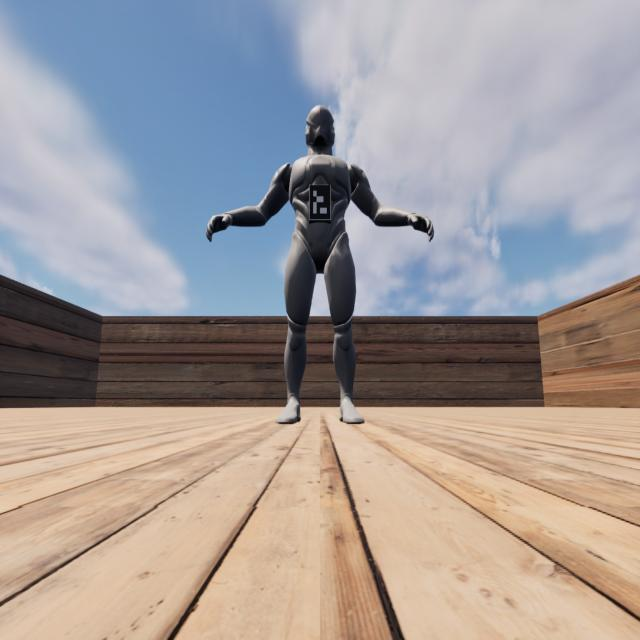aruco: (309, 186, 331, 220)
hip: (291, 236, 350, 246)
